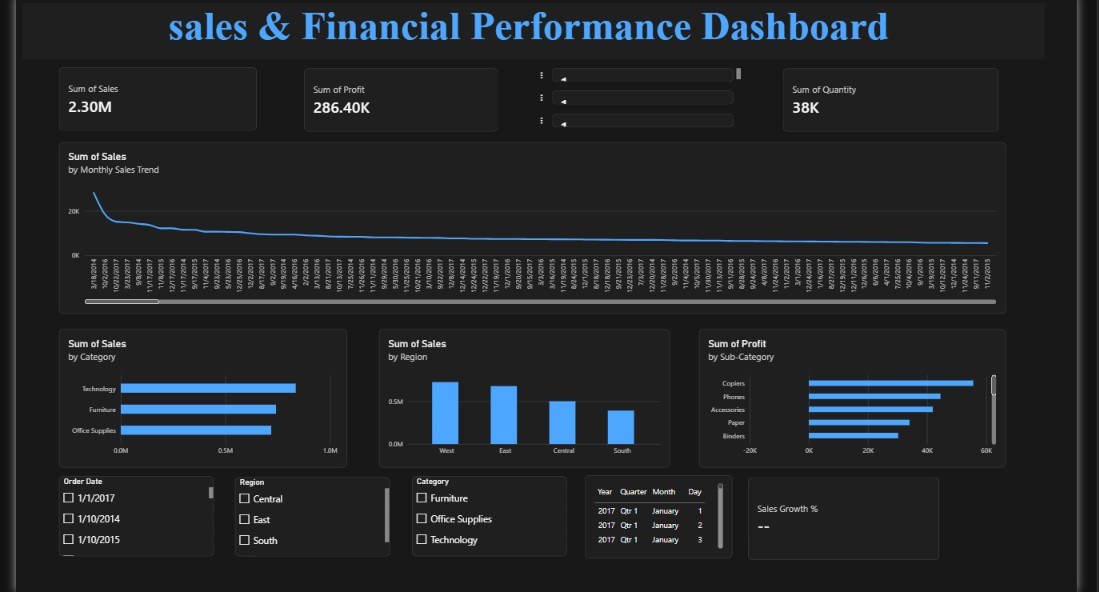

The page's visual inventory and layout, read from the dashboard file:
{"tool":"powerbi","page":{"name":"Page 1","canvas":[1920,1080],"ordinal":0},"visuals":[{"type":"cardVisual","fields":{"Data":["Sum(Sample - Superstore.Sales)"]},"box":[78.3,130,358.3,115],"z":0},{"type":"cardVisual","fields":{"Data":["Sum(Sample - Superstore.Profit)"]},"box":[521.7,131.7,351.7,115],"z":1000},{"type":"cardVisual","fields":{"Data":["Count(Sample - Superstore.Discount)"],"Rows":["Sample - Superstore.Order ID"]},"box":[935,131.7,376.7,115],"z":2000},{"type":"cardVisual","fields":{"Data":["Sum(Sample - Superstore.Quantity)"]},"box":[1388.3,131.7,390,115],"z":3000},{"type":"lineChart","fields":{"Category":["Sample - Superstore.Order Date"],"Y":["Sum(Sample - Superstore.Sales)"]},"box":[78.3,266.7,1713.3,310],"z":4000},{"type":"clusteredBarChart","fields":{"Category":["Sample - Superstore.Category"],"Y":["Sum(Sample - Superstore.Sales)"]},"box":[78.3,605,521.7,250],"z":5000},{"type":"clusteredColumnChart","fields":{"Category":["Sample - Superstore.Region"],"Y":["Sum(Sample - Superstore.Sales)"]},"box":[656.7,605,526.7,250],"z":6000},{"type":"barChart","fields":{"Category":["Sample - Superstore.Sub-Category"],"Y":["Sum(Sample - Superstore.Profit)"]},"box":[1236.7,605,555,250],"z":7000},{"type":"slicer","fields":{"Values":["Sample - Superstore.Region"]},"box":[396.7,871.7,280,143.3],"z":8000},{"type":"slicer","fields":{"Values":["Sample - Superstore.Category"]},"box":[716.7,870,280,145],"z":9000},{"type":"slicer","fields":{"Values":["Sample - Superstore.Order Date"]},"box":[78.3,870,280,145],"z":10000},{"type":"textbox","box":[10,15,1850,101.7],"z":10001},{"type":"tableEx","fields":{"Values":["Calendar.Date.Variation.Date Hierarchy.Year","Calendar.Date.Variation.Date Hierarchy.Quarter","Calendar.Date.Variation.Date Hierarchy.Month","Calendar.Date.Variation.Date Hierarchy.Day"]},"box":[1030,868.3,266.7,150],"z":10002},{"type":"cardVisual","fields":{"Data":["Calendar.Sales Growth %"]},"box":[1325,871.7,346.7,150],"z":10003}]}

Visuals, with their boxes on the page's 1920x1080 design canvas (x1, y1, x2, y2). These are canvas units, not pixel positions in the 1099x592 screenshot, which may show the page scaled, cropped or inside an application window:
cardVisual - Sum(Sample - Superstore.Sales): bbox=(78, 130, 437, 245)
cardVisual - Sum(Sample - Superstore.Profit): bbox=(522, 132, 873, 247)
cardVisual - Count(Sample - Superstore.Discount) x Sample - Superstore.Order ID: bbox=(935, 132, 1312, 247)
cardVisual - Sum(Sample - Superstore.Quantity): bbox=(1388, 132, 1778, 247)
lineChart - Sample - Superstore.Order Date x Sum(Sample - Superstore.Sales): bbox=(78, 267, 1792, 577)
clusteredBarChart - Sample - Superstore.Category x Sum(Sample - Superstore.Sales): bbox=(78, 605, 600, 855)
clusteredColumnChart - Sample - Superstore.Region x Sum(Sample - Superstore.Sales): bbox=(657, 605, 1183, 855)
barChart - Sample - Superstore.Sub-Category x Sum(Sample - Superstore.Profit): bbox=(1237, 605, 1792, 855)
slicer - Sample - Superstore.Region: bbox=(397, 872, 677, 1015)
slicer - Sample - Superstore.Category: bbox=(717, 870, 997, 1015)
slicer - Sample - Superstore.Order Date: bbox=(78, 870, 358, 1015)
textbox: bbox=(10, 15, 1860, 117)
tableEx - Calendar.Date.Variation.Date Hierarchy.Year x Calendar.Date.Variation.Date Hierarchy.Quarter: bbox=(1030, 868, 1297, 1018)
cardVisual - Calendar.Sales Growth %: bbox=(1325, 872, 1672, 1022)
